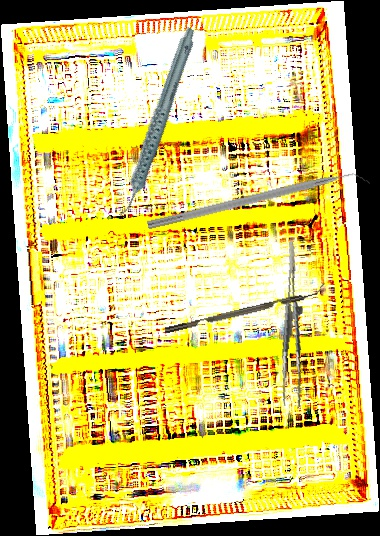Chopper: (146, 165, 372, 243), (162, 282, 328, 334)
Handpiece: (79, 25, 232, 219)
Tissue Forceps: (266, 240, 323, 409)
